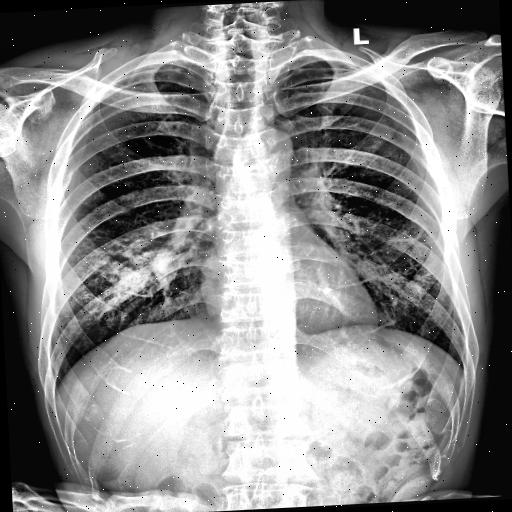6- Infiltration: (91, 232, 177, 300)
7- Lung Opacity: (68, 232, 185, 326), (90, 242, 180, 301)
